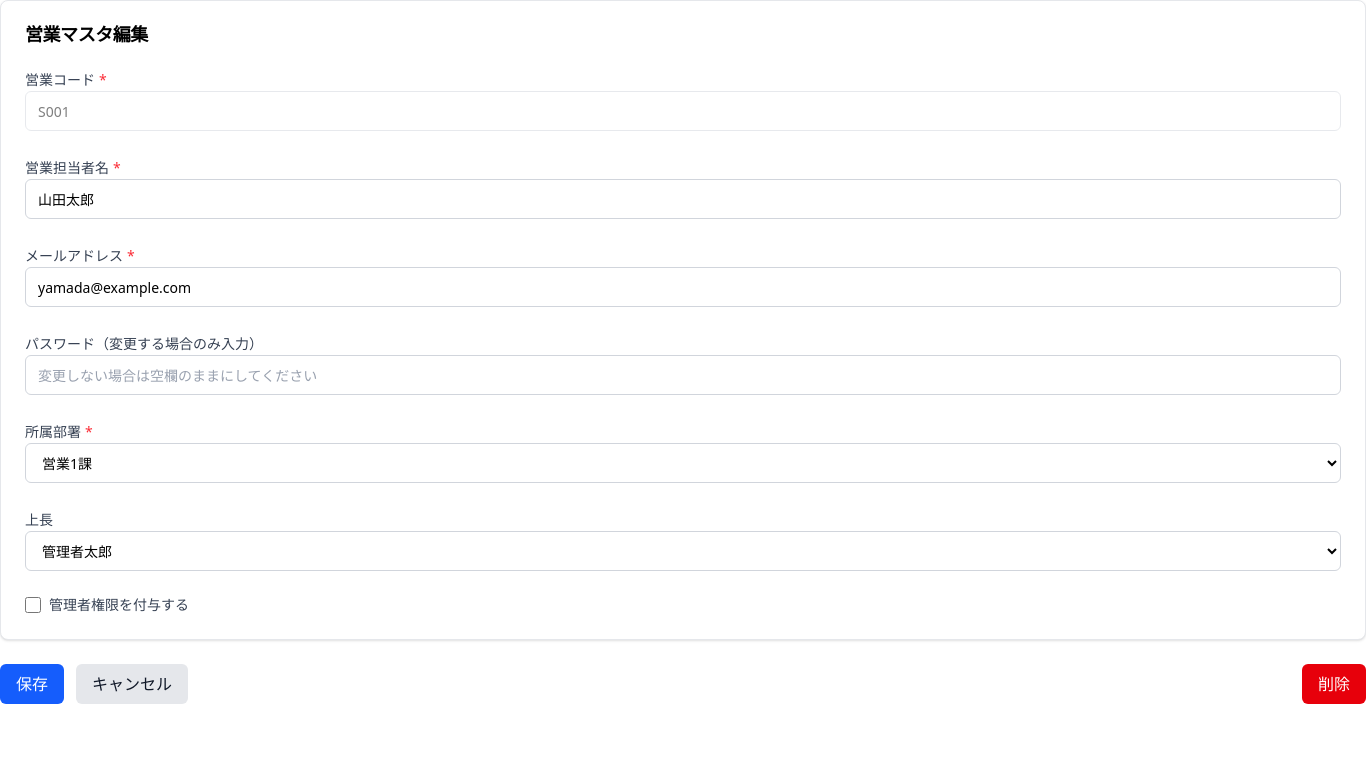
SalesForm › 編集モード › 削除ボタンをクリックすると確認ダイアログが表示される
The width and height of the screenshot is (1366, 768).
What coordinates should you click on to do the following:
click the button "削除"
I would click on:
 (1334, 684)
Its box is [1302,664,1365,704].
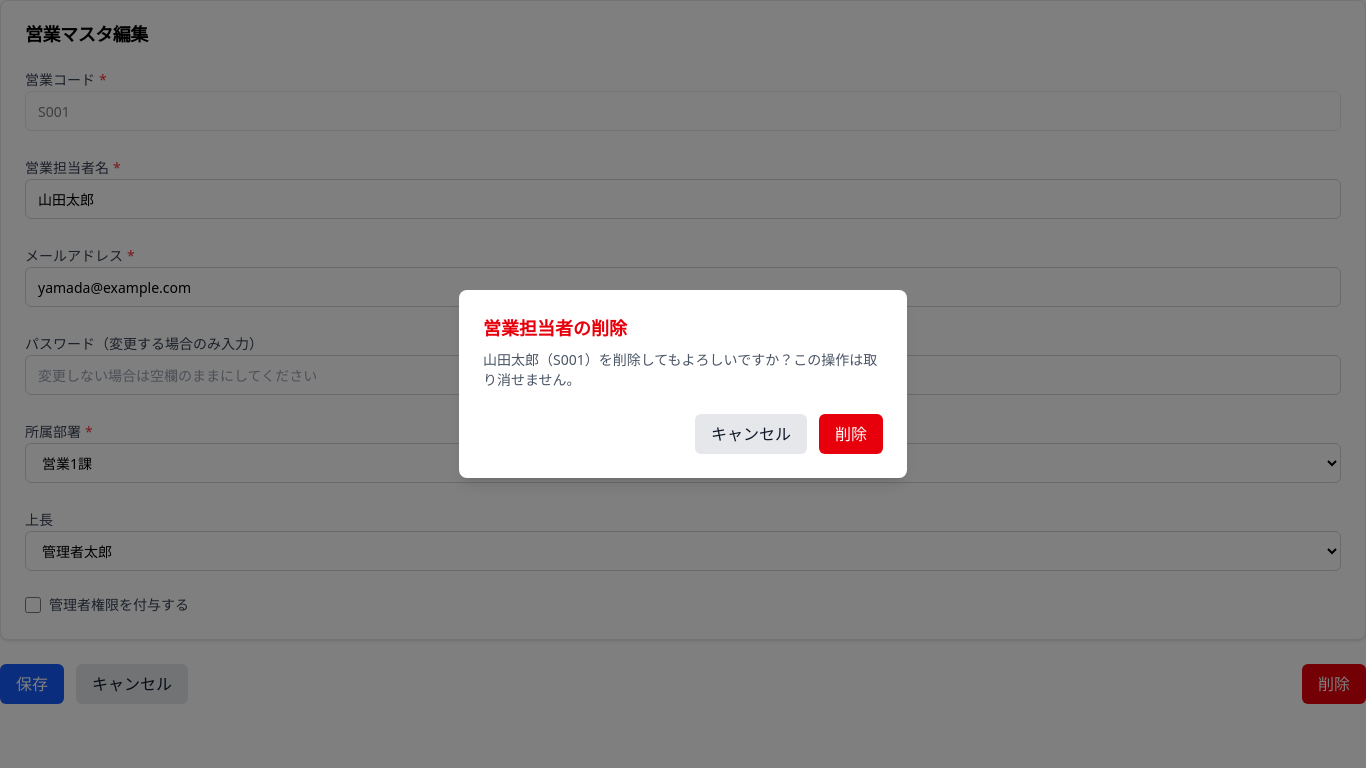
Result: the heading "営業担当者の削除" is shown at [483,316,627,340]
Result: the text "山田太郎（S001）を削除してもよろしいですか？この操作は取り消せません。" is shown at [483,350,883,390]
